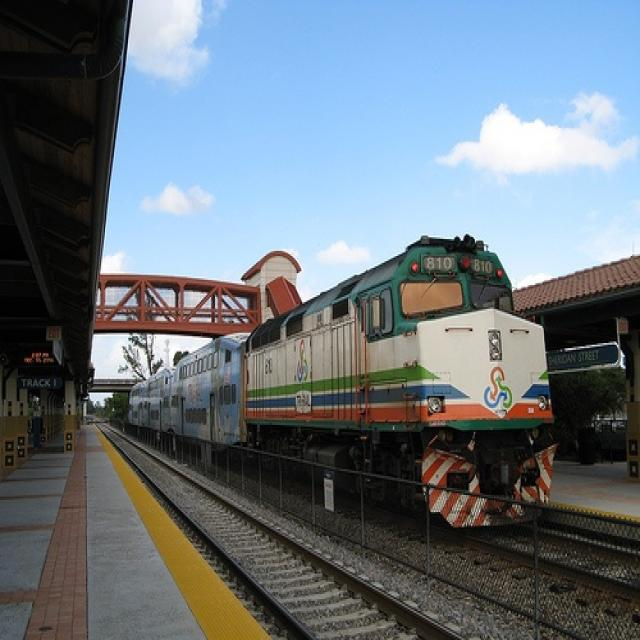train: (127, 234, 550, 531)
